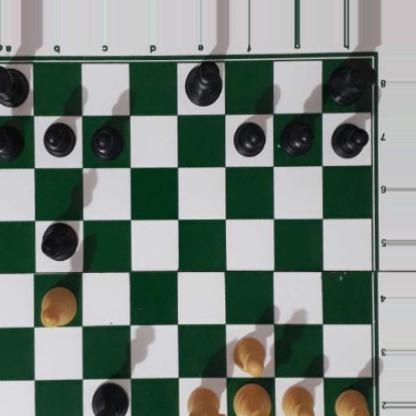black-bishop: (39, 222, 80, 262)
black-king: (183, 60, 224, 107)
black-pawn: (331, 119, 367, 158), (232, 118, 265, 156), (281, 117, 314, 154), (90, 121, 123, 158), (42, 120, 74, 157), (0, 121, 23, 157)
black-queen: (89, 381, 130, 416)
black-rook: (329, 59, 376, 104), (0, 60, 30, 107)
white-bishop: (39, 285, 76, 329)
white-king: (233, 383, 273, 416)
white-knight: (183, 385, 227, 416)
white-pawn: (231, 334, 266, 375), (280, 384, 317, 416), (334, 388, 371, 416)
